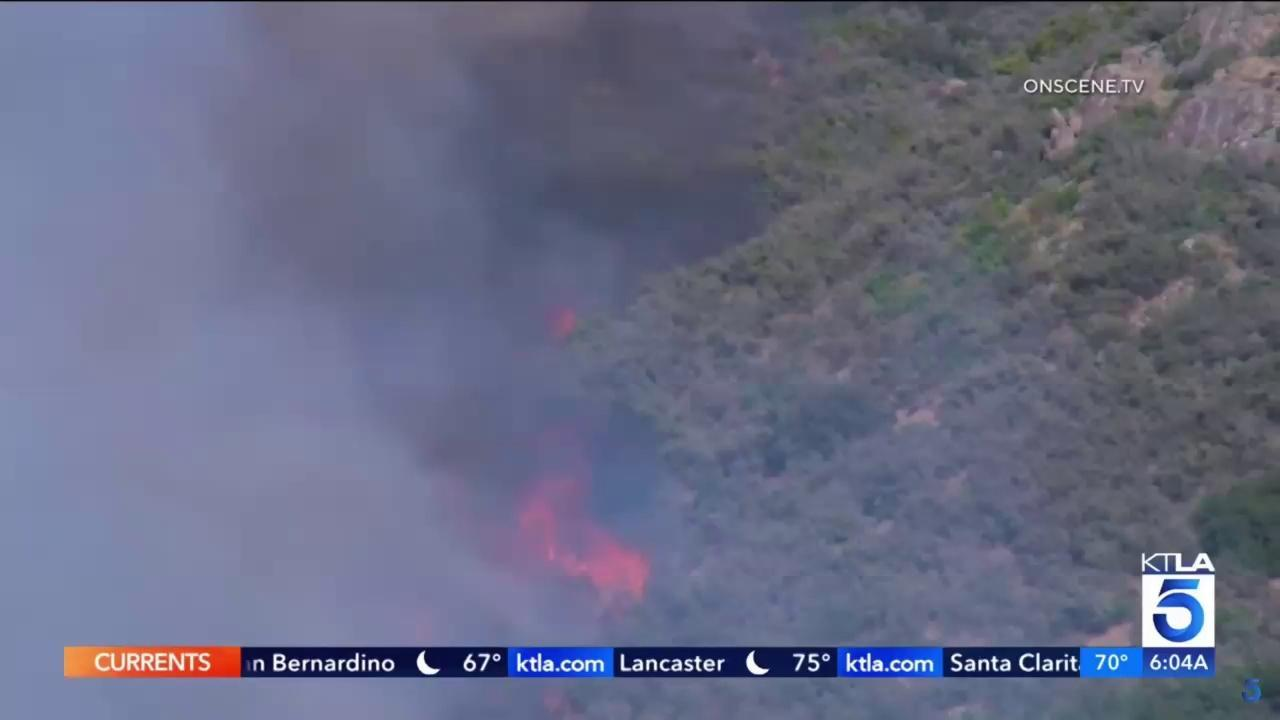fire: (490, 421, 654, 616), (545, 300, 579, 344)
smoke: (0, 2, 854, 720)
